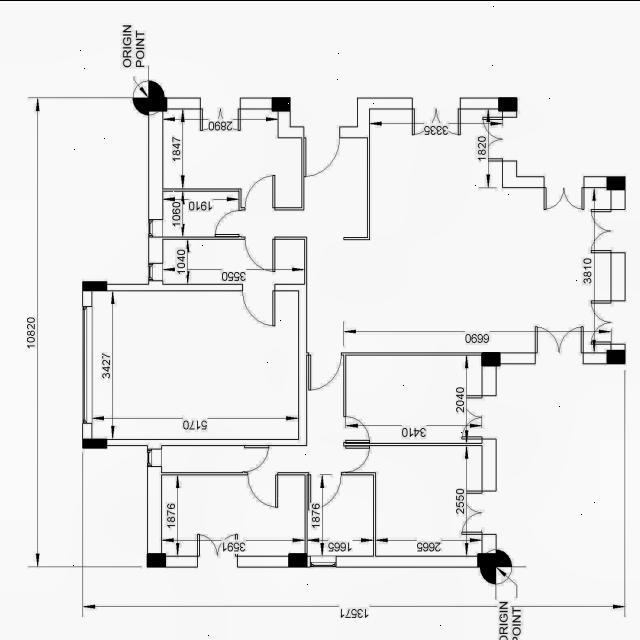Column: (146, 552, 166, 566), (288, 552, 308, 566), (477, 552, 497, 566), (481, 352, 501, 366), (606, 349, 626, 363), (606, 176, 626, 190), (498, 96, 518, 110), (148, 96, 168, 110), (272, 96, 290, 110), (82, 438, 107, 448), (82, 280, 107, 290)
Door: (304, 126, 341, 176), (242, 283, 276, 325), (308, 352, 342, 389), (308, 471, 342, 506), (244, 236, 276, 272), (248, 471, 278, 507), (245, 174, 275, 210), (215, 208, 245, 236), (341, 444, 370, 472), (341, 415, 370, 443), (242, 444, 269, 472)
Double-Door: (534, 325, 584, 363), (412, 96, 461, 134), (461, 394, 497, 438), (590, 208, 626, 252), (462, 489, 496, 534), (591, 300, 625, 344), (483, 116, 517, 160), (544, 175, 584, 209), (198, 532, 238, 566), (200, 96, 240, 130)
Window: (82, 305, 92, 423), (310, 554, 336, 566), (147, 448, 162, 466), (148, 262, 163, 280), (148, 218, 163, 236)
